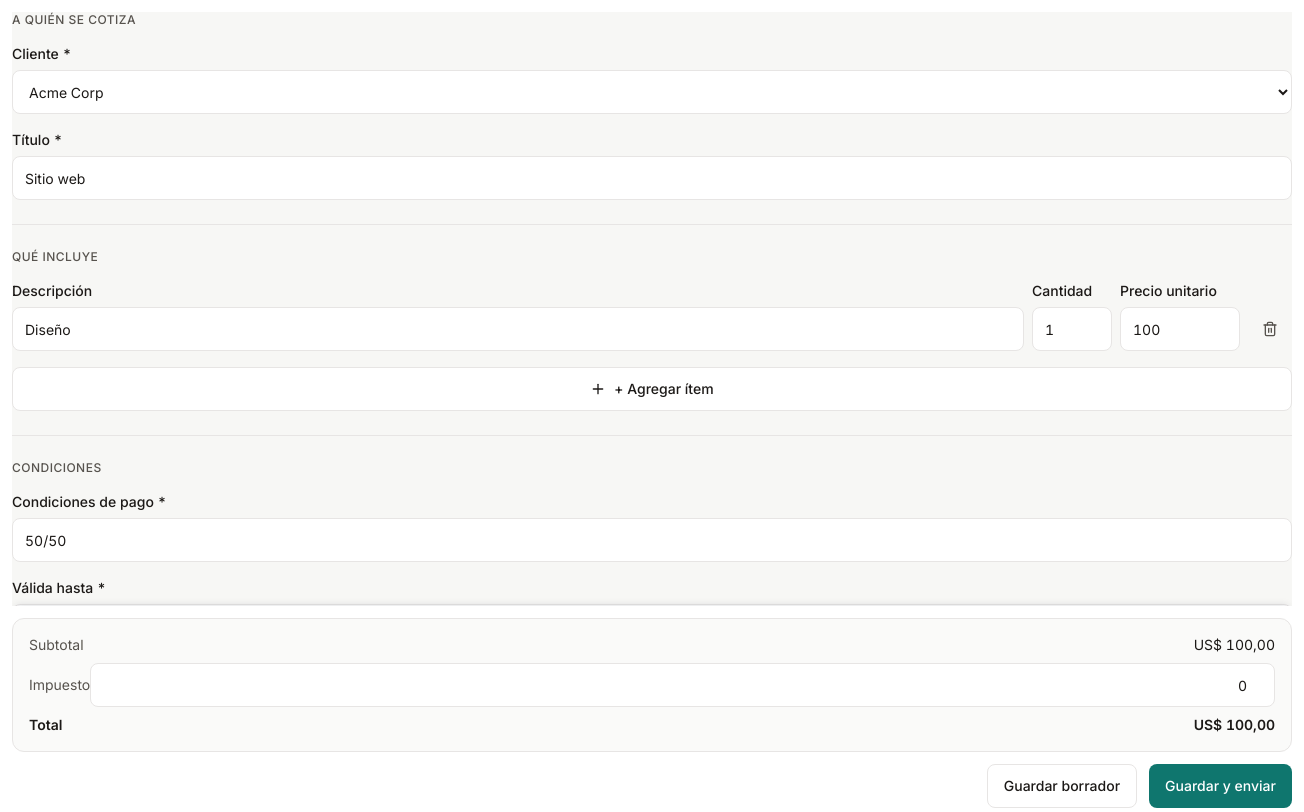
it: QuoteForm › shows errors for negative unit price and out-of-range tax
Step 1. Replace the text in the number field labelled "Precio unitario" with "-5" → x=1180, y=329, box [1120,307,1240,351]
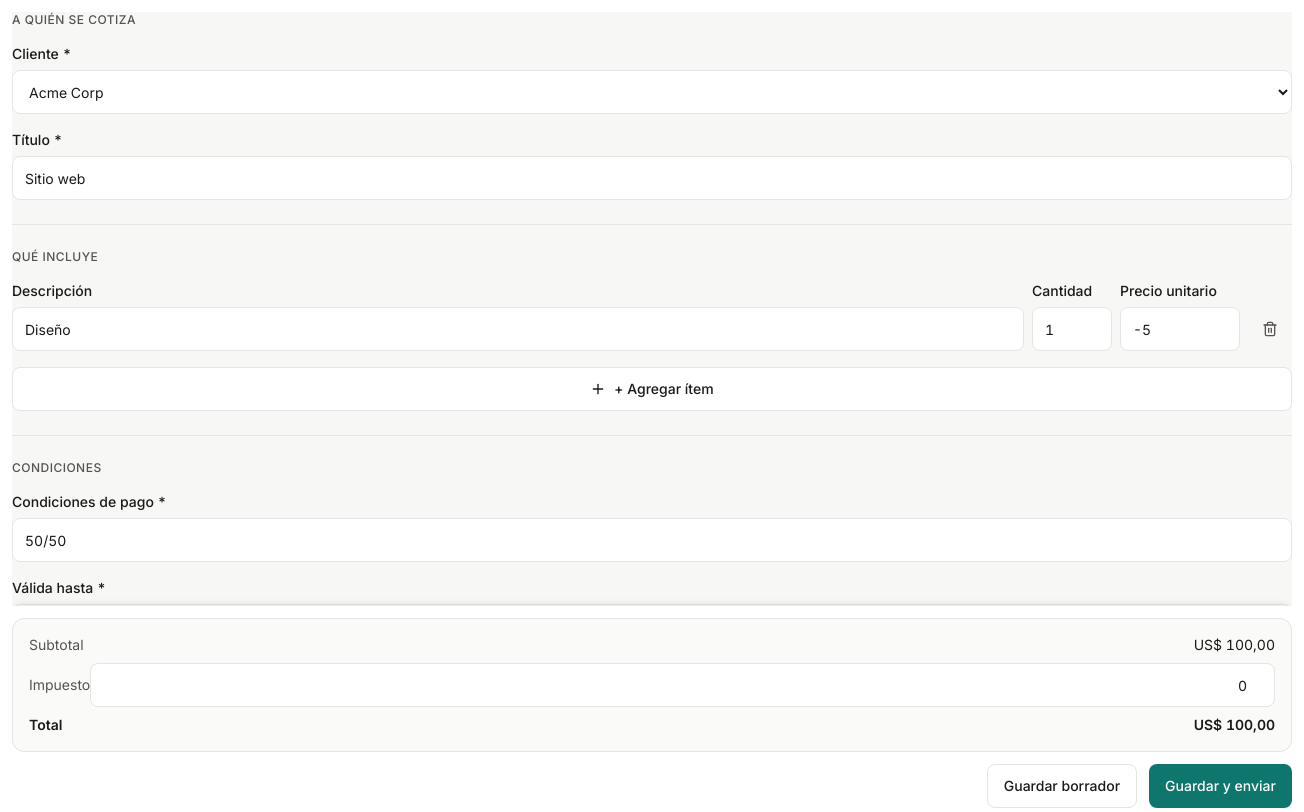
Step 2. Replace the text in the number field named "Impuesto" with "150" → x=683, y=685, box [90,663,1275,707]
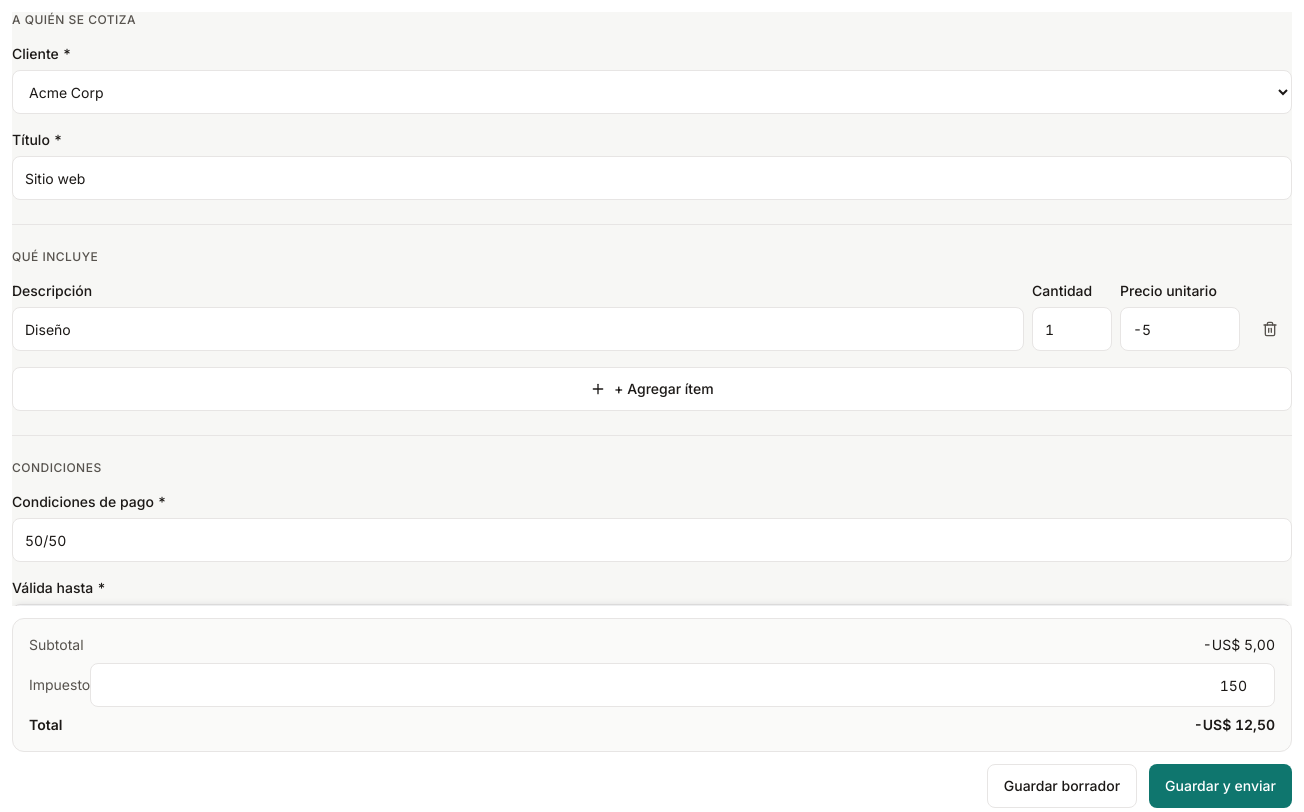
Step 3. Click the button "Guardar borrador" → x=1062, y=786, box [987,764,1137,808]
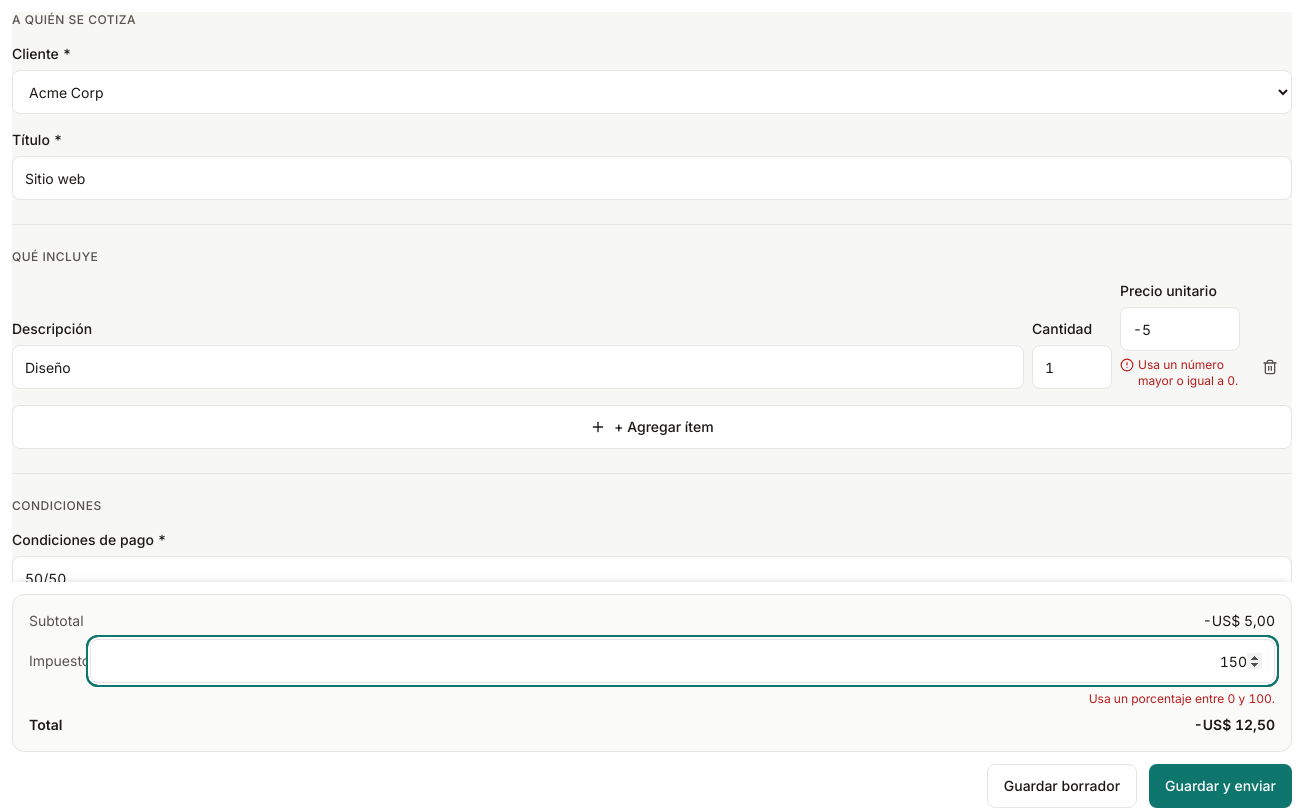
Expected: the text "Usa un número mayor o igual a 0." is shown, [1120,357,1240,389]
Expected: the text "Usa un porcentaje entre 0 y 100." is shown, [1089,691,1275,706]
